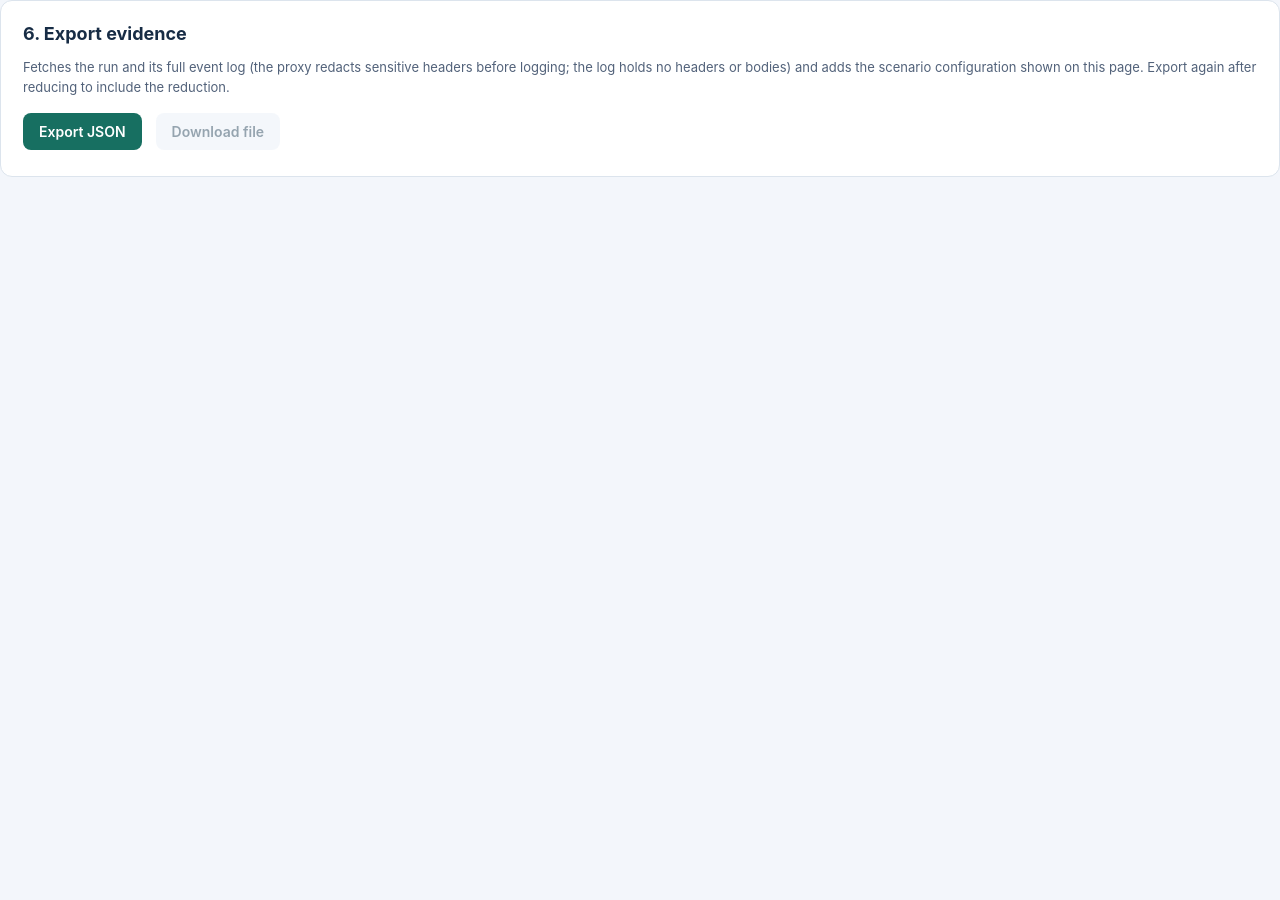
Test: <ExportPanel/> › warns when the event log may be truncated
Click the button "Export JSON".
click(82, 132)  # box [23, 113, 142, 150]
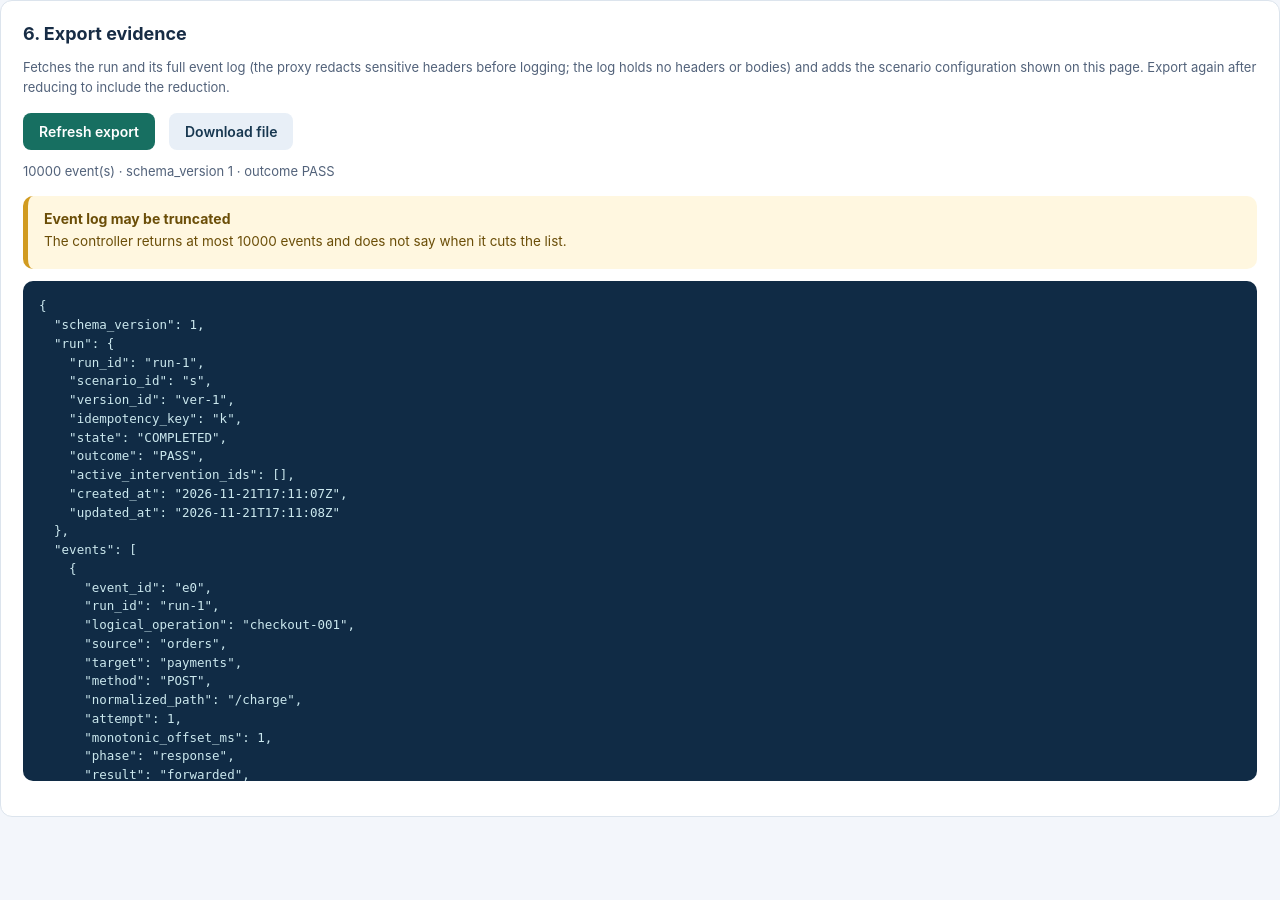
Now the text "Event log may be truncated" is shown, box [44, 210, 230, 226]
